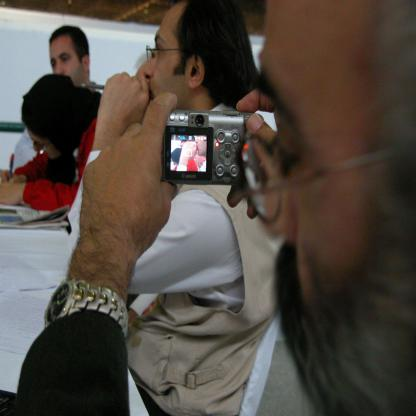Camera: (154, 97, 265, 191)
